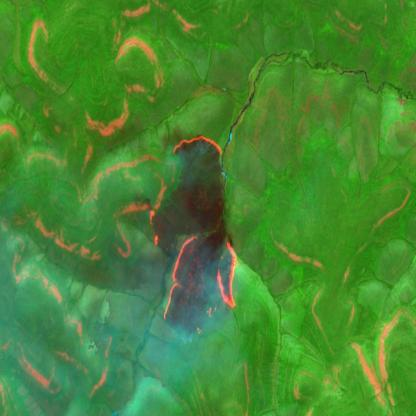fire: (148, 132, 239, 330)
